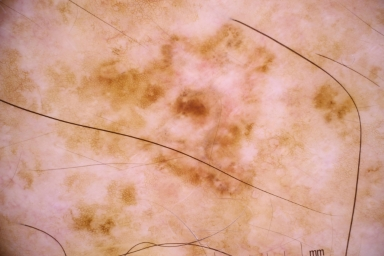nevus: (64, 22, 278, 197)
